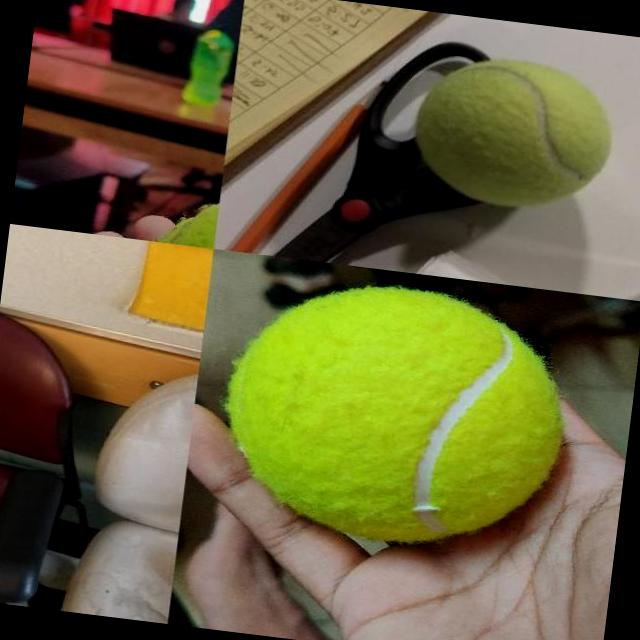Tennis Ball: (215, 270, 578, 560), (407, 47, 622, 218)
